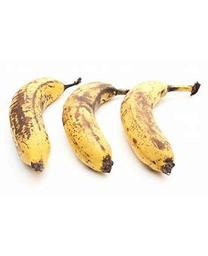banana: (7, 76, 202, 176)
